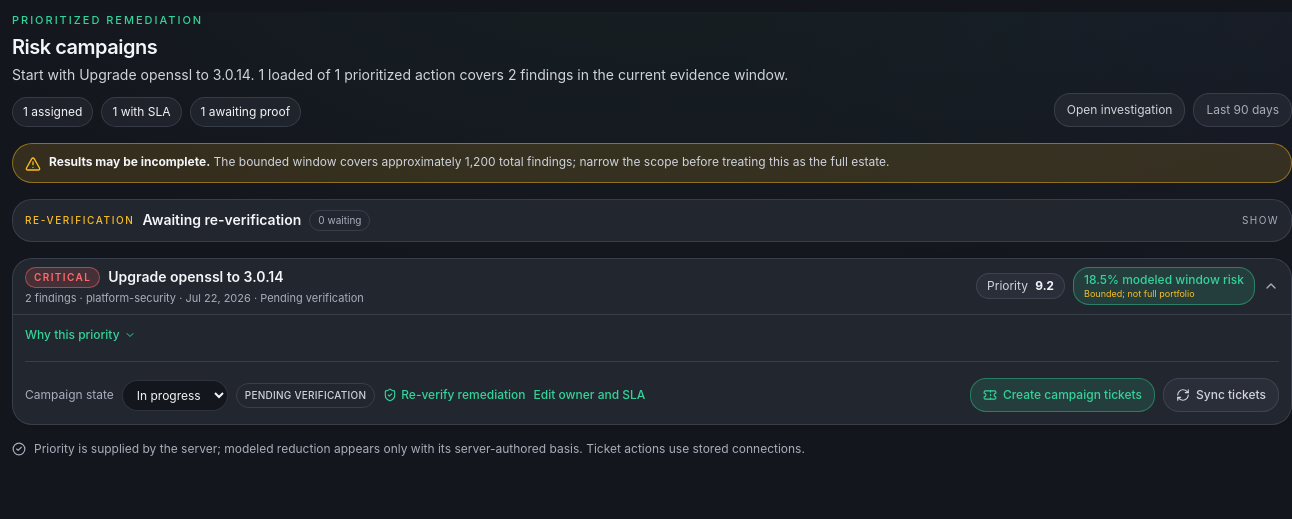
Scenario: RiskCampaignCommandCenter › reports successful server verification without caller-authored status
expect the heading "Upgrade openssl to 3.0.14" is shown: met, box [108,267,284,287]
Click the button "Re-verify remediation".
click(454, 395)  # box [383,387,526,403]
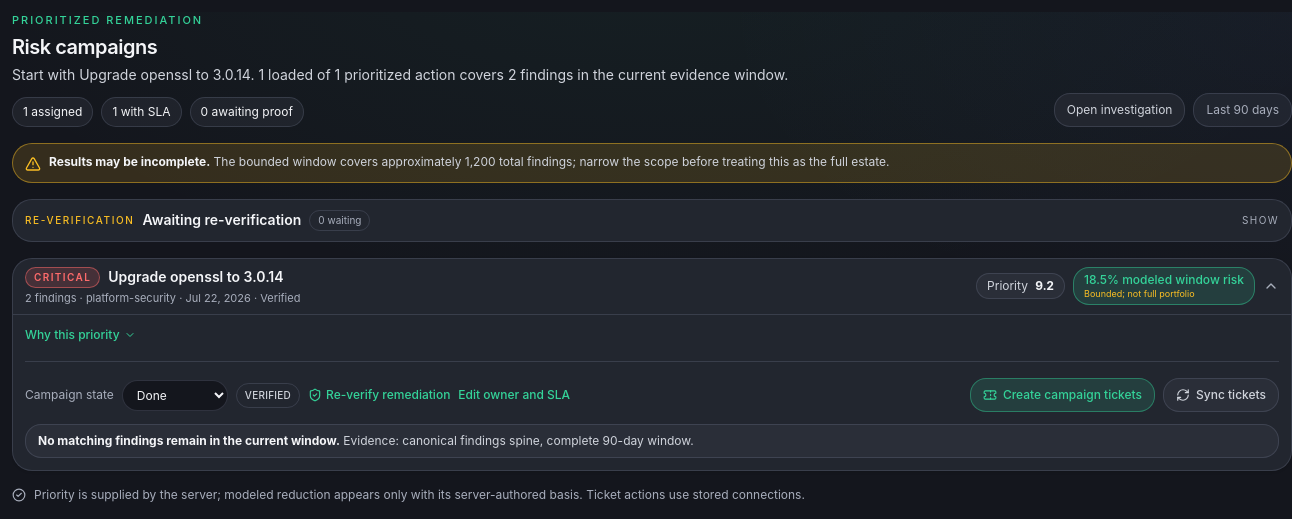
expect the text "No matching findings remain in the current window." is shown: met, box [38,433,340,448]
expect the text "Verified" is shown: met, box [236,382,300,408]
